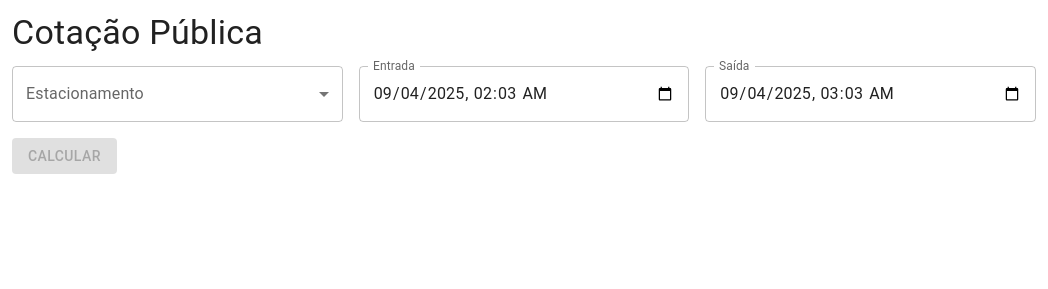
it: Quote › calculates quote and shows value and charging type
Select parking lot
Click the dropdown named "estacionamento". click: (177, 94)
box: [12,66,343,122]
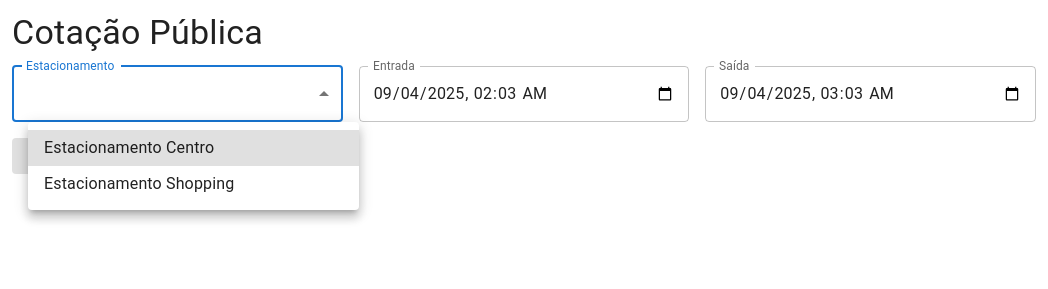
Click the option "Estacionamento Centro". click: (194, 148)
box: [28,130,359,166]
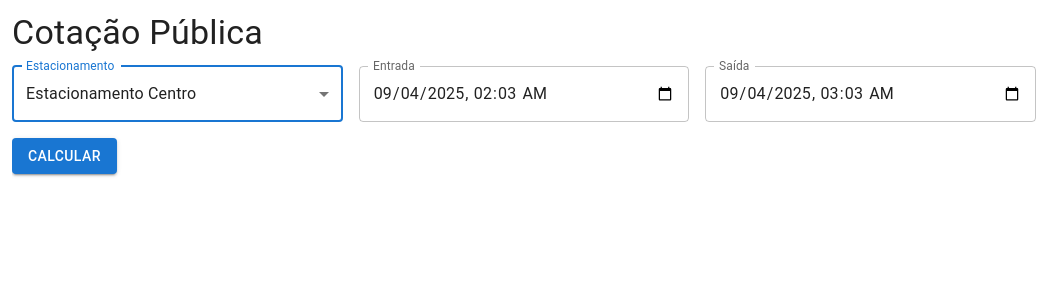
Click the button "Calcular". click: (64, 156)
box: [12,138,117,174]
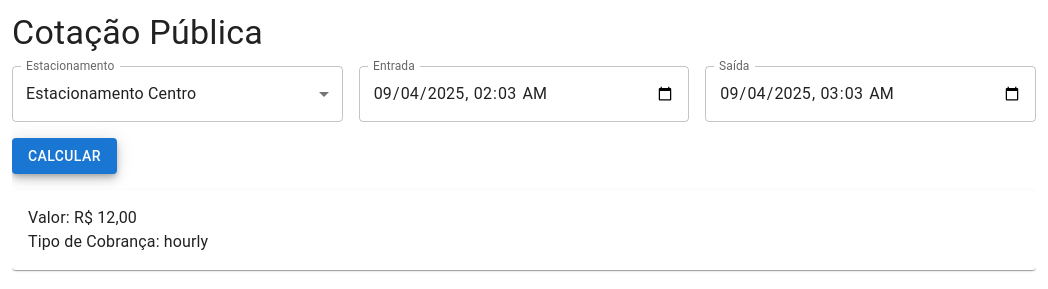
Check: the text "Tipo de Cobrança: hourly" is shown, box [28,232,208,251]
Check: the text "Valor: R$ 12,00" is shown, box [28,208,137,227]
